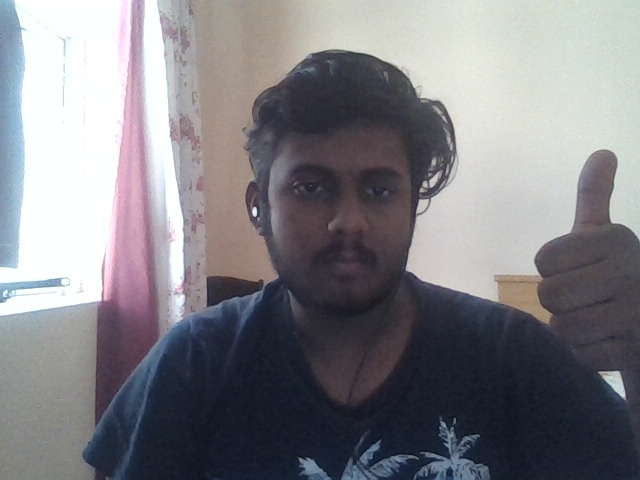thumbsup: (95, 161, 186, 339)
